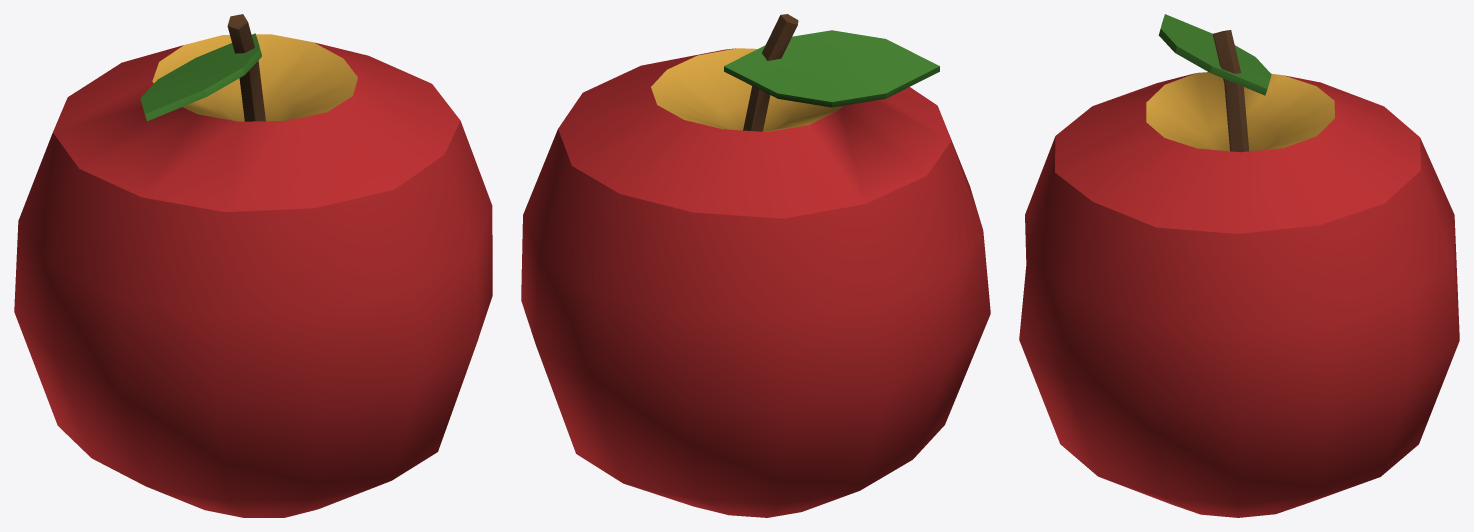
Rendered from apple.glb.
The picture shows the model from 3 angles, left to right: view 1: azimuth 30°, elevation 25°; view 2: azimuth 150°, elevation 25°; view 3: azimuth 270°, elevation 25°; orthographic projection. The views are drawn at different scales.
Visible parts, largest first — view 1: apple; view 2: apple; view 3: apple.
Boxes of the visible parts, <box> form: apple: <box>14,14,492,517</box>; apple: <box>521,14,990,517</box>; apple: <box>1019,14,1459,517</box>.
Size of the model in its own units: 0.0741 by 0.0809 by 0.073.
